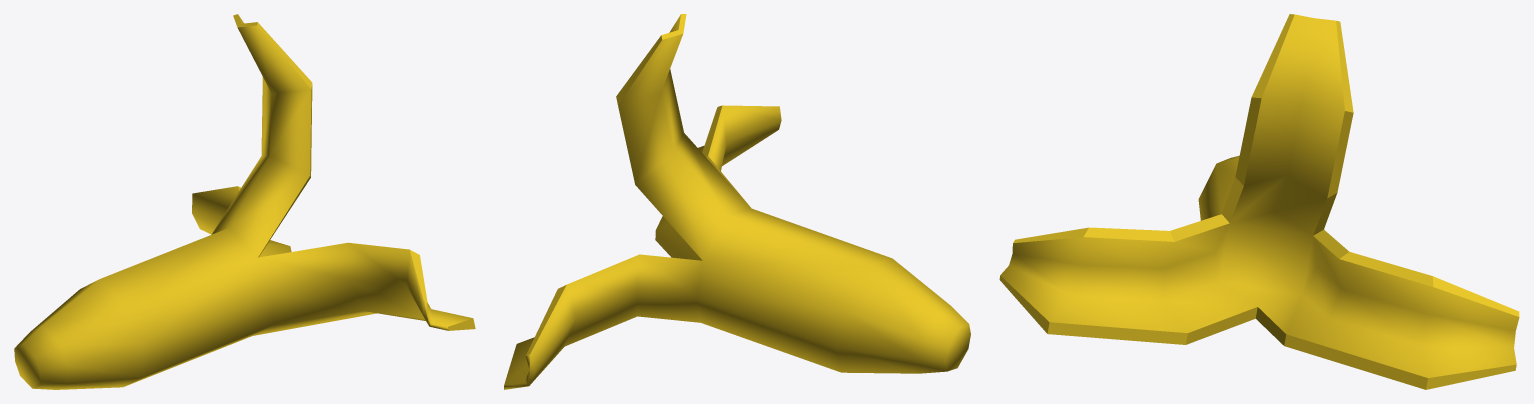
Rendered from banana_peel.glb.
3 renders of one model, left to right at view 1: azimuth 30°, elevation 25°; view 2: azimuth 150°, elevation 25°; view 3: azimuth 270°, elevation 25°, orthographic. The views are drawn at different scales.
Visible parts, largest first — view 1: Cube.001; view 2: Cube.001; view 3: Cube.001.
Boxes of the visible parts, x1,y1,x2,y2 form: Cube.001: (14, 14, 475, 389); Cube.001: (504, 14, 970, 389); Cube.001: (999, 14, 1519, 389).
Bounding box in the file's own units: 2.77 × 2.34 × 3.3.
